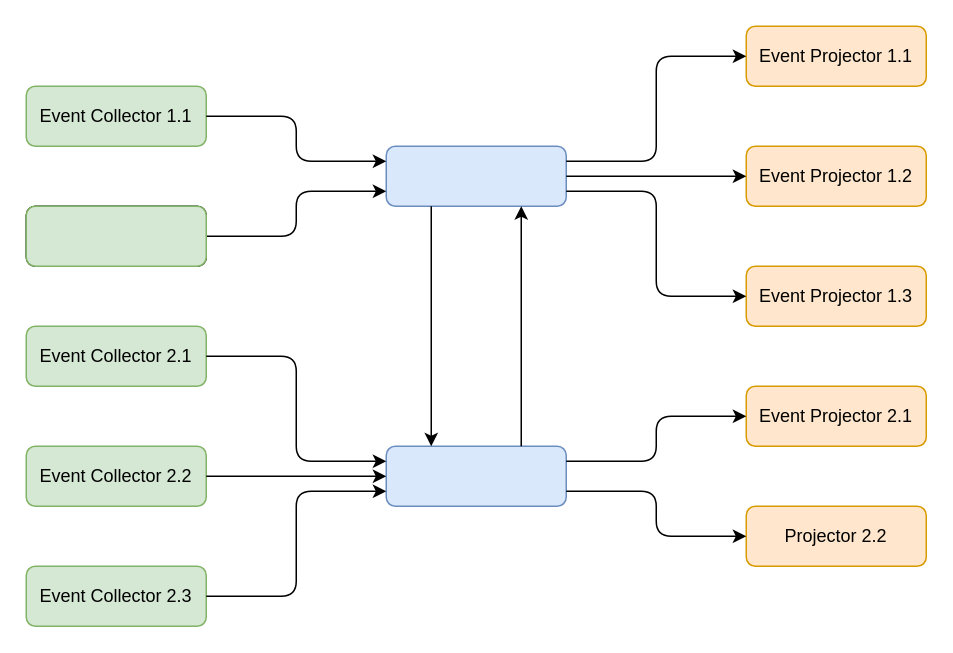
Some shapes in this 953 by 653 pixel diagram are drawn without their labels. Each missing label, with the box of its shape:
Event Aggregator 1: (385, 145, 566, 206)
Event Aggregator 2: (385, 445, 566, 506)
Event Collector 1.2: (25, 205, 206, 266)
